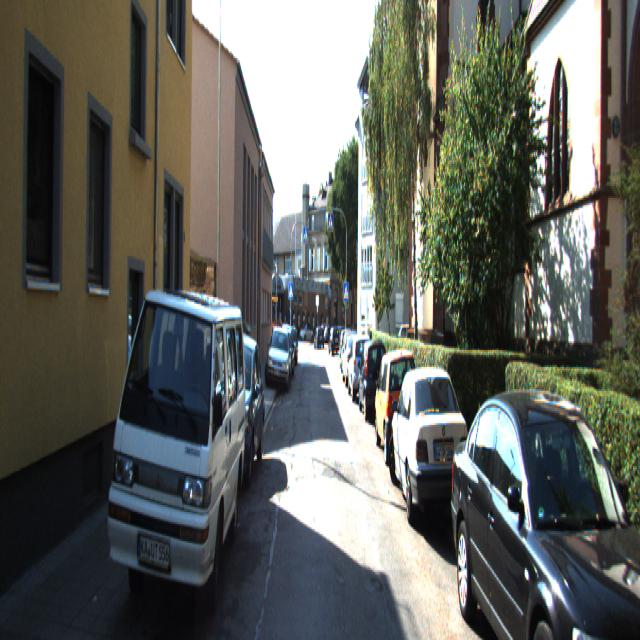Car: (106, 276, 247, 638), (450, 369, 639, 638), (386, 360, 477, 553), (201, 327, 266, 492), (374, 342, 424, 470), (358, 335, 393, 421), (346, 331, 374, 403), (266, 322, 290, 392), (341, 331, 363, 388)
